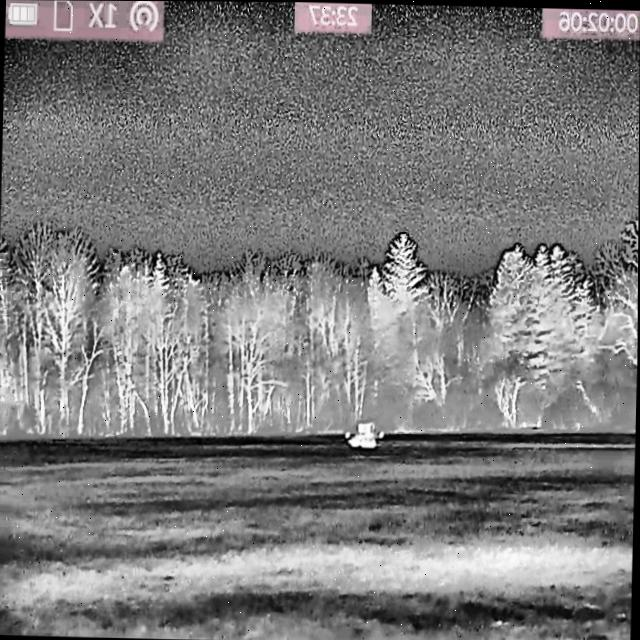drone: (343, 418, 386, 451)
